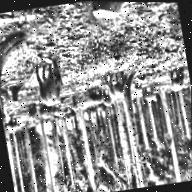boar: (28, 53, 80, 117), (104, 68, 134, 101), (165, 68, 191, 102), (143, 81, 161, 105), (88, 90, 102, 108), (102, 96, 112, 113)
